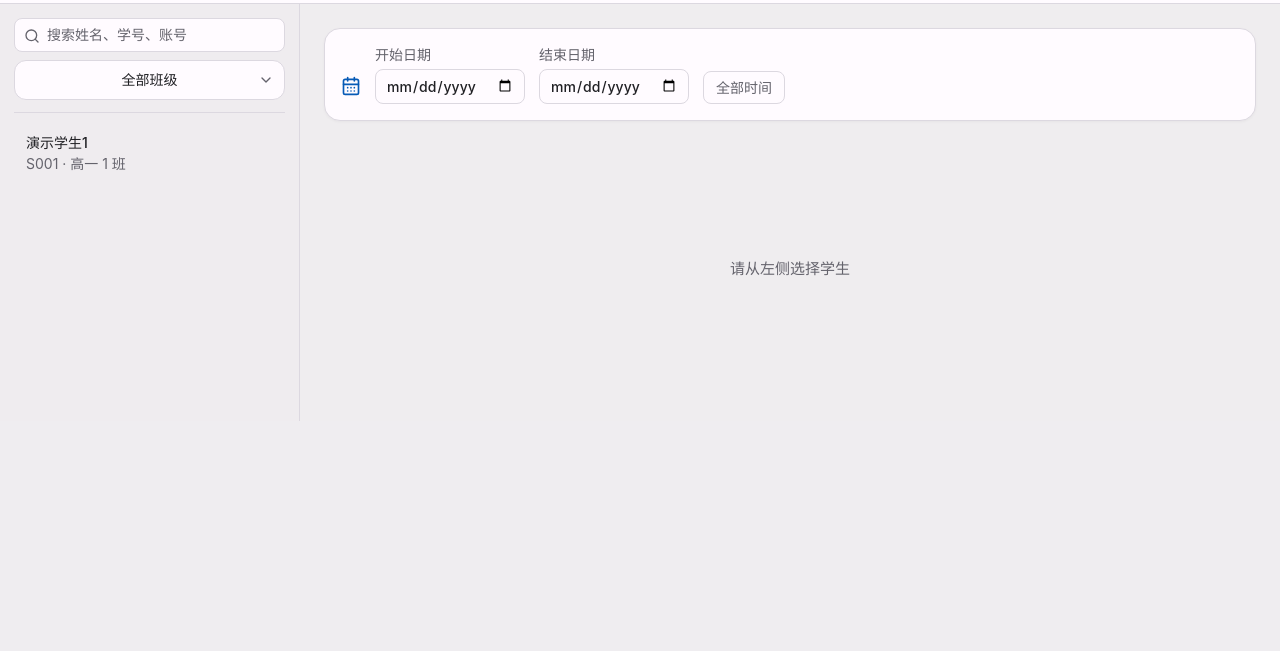
it: TeacherStudentInsightsWorkspace › confirms the exact student and source before assigning a personal practice
This screenshot has width=1280, height=651.
Click the text "演示学生1". click: (57, 142)
box: [26, 134, 88, 151]
(page scrolled)
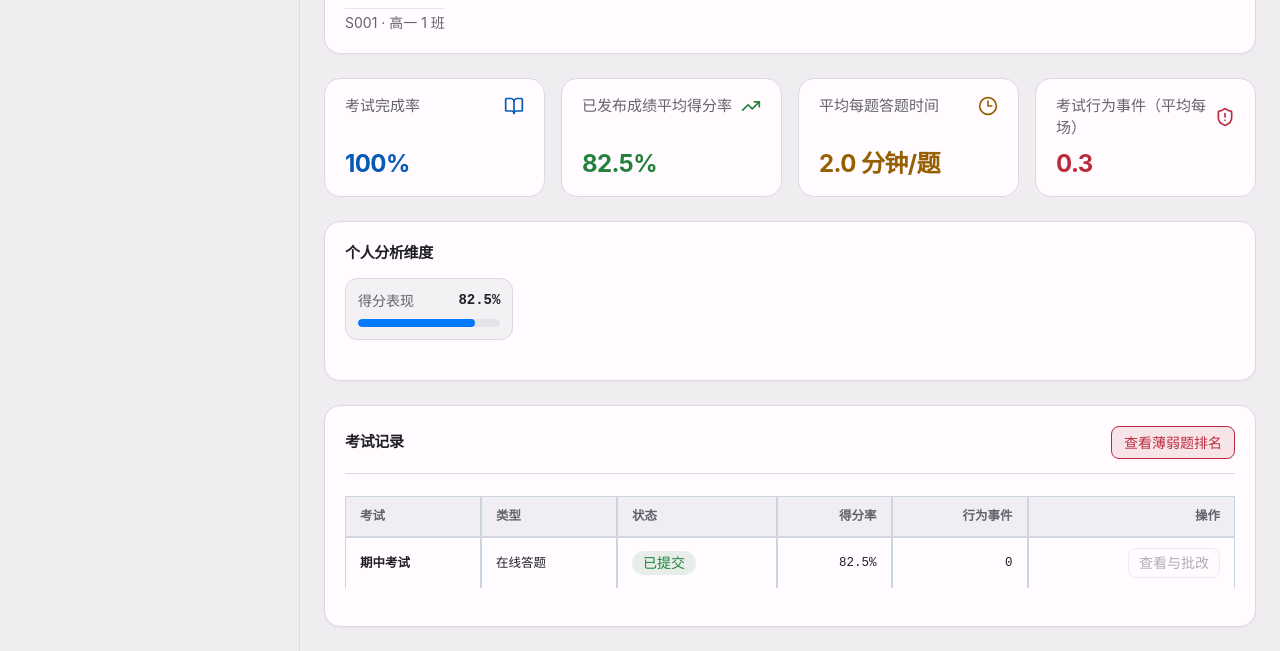
Click the button "查看薄弱题排名". click: (1173, 443)
box: [1111, 426, 1235, 460]
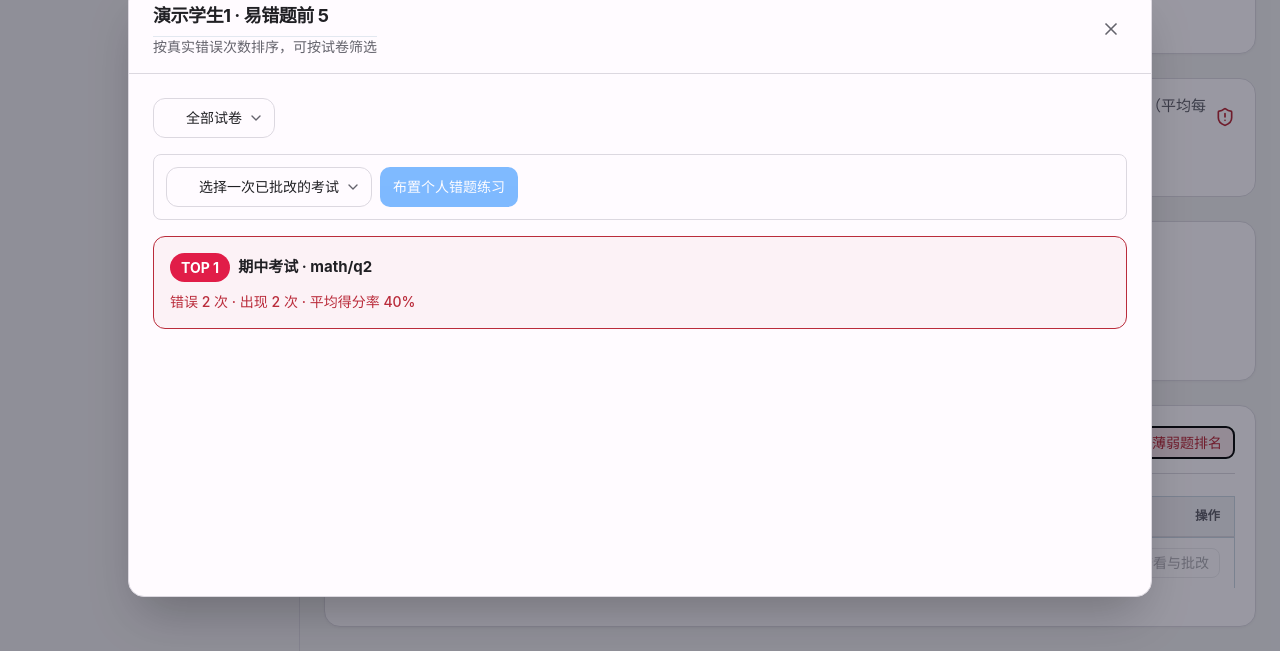
Check: the button "布置个人错题练习" is disabled, box [380, 167, 518, 207]
Click the dropdown named "错题练习来源". click: (269, 187)
box: [166, 167, 372, 207]
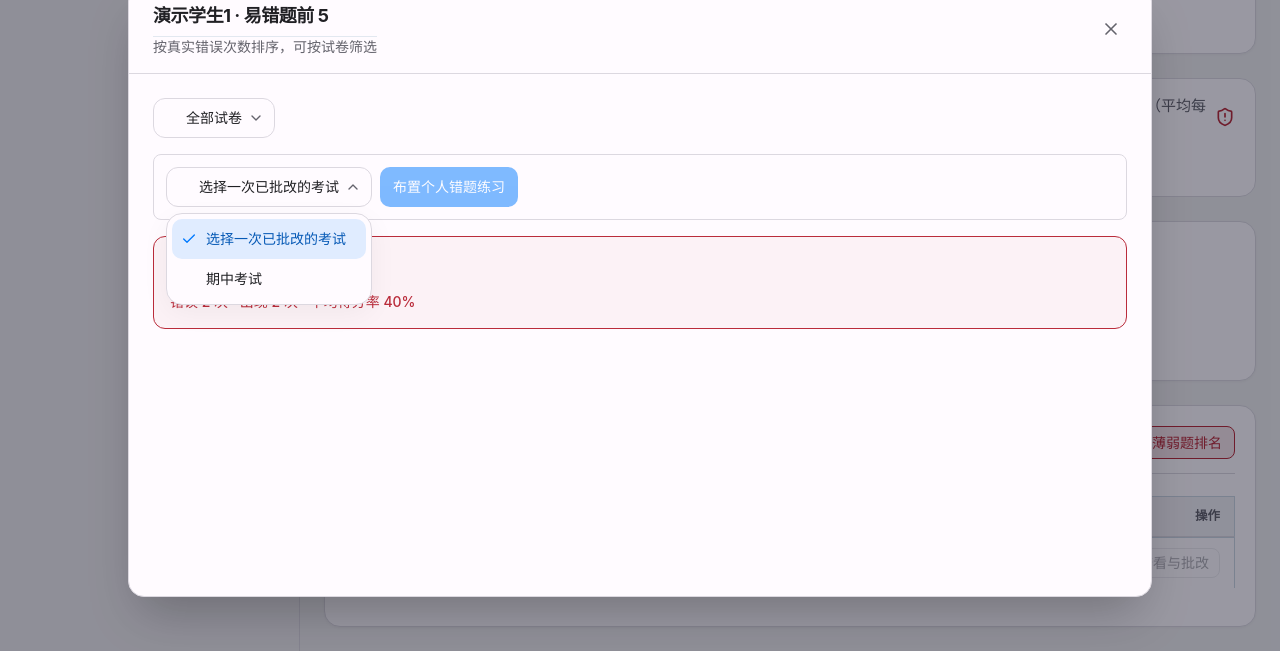
Click the option "期中考试". click: (234, 279)
box: [206, 270, 262, 287]
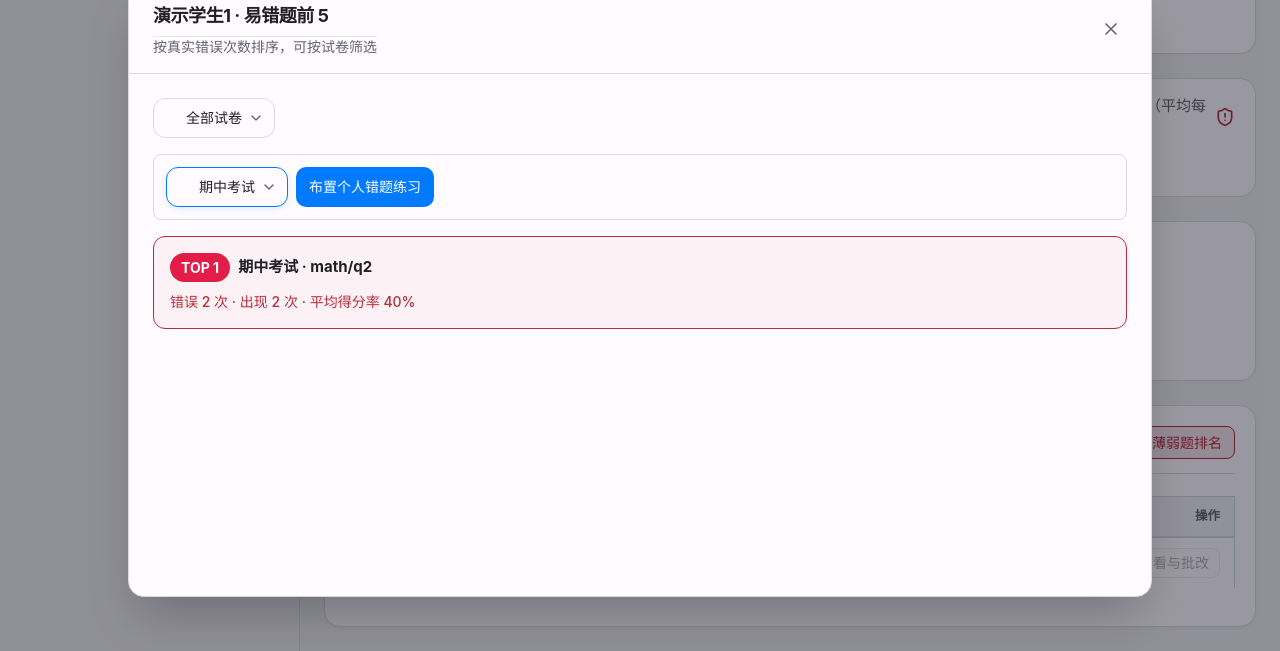
Click the button "布置个人错题练习". click: (365, 187)
box: [296, 167, 434, 207]
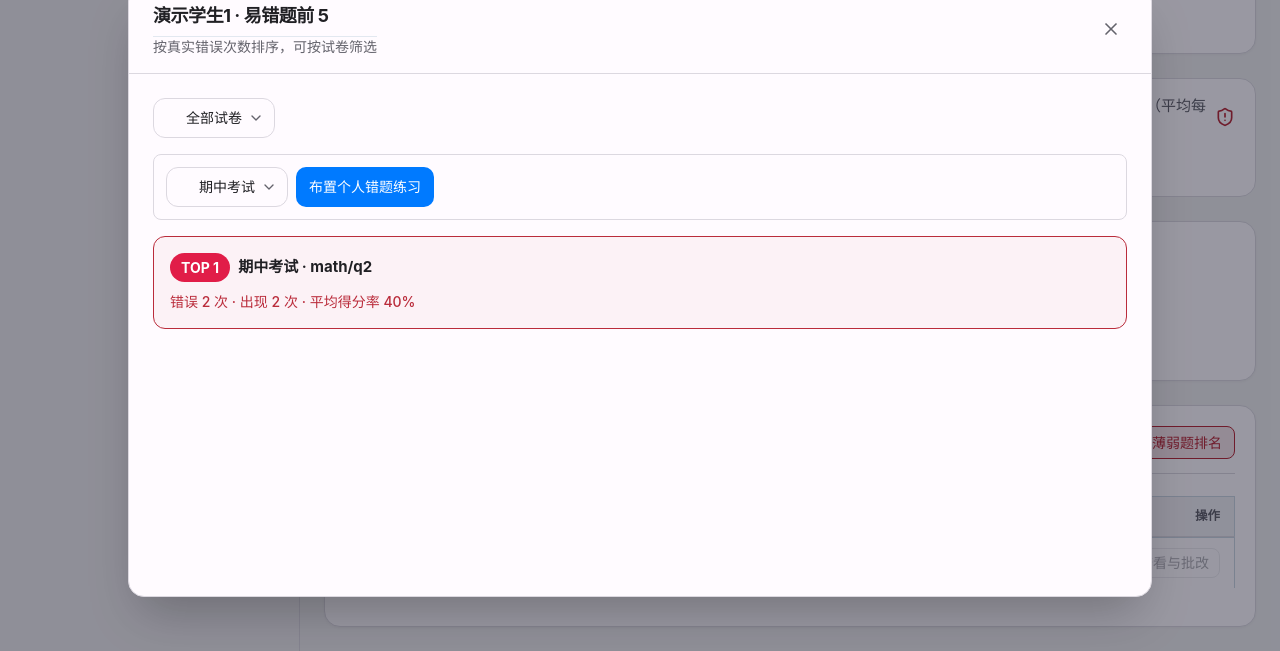
Click the button "布置个人错题练习". click: (365, 187)
box: [296, 167, 434, 207]
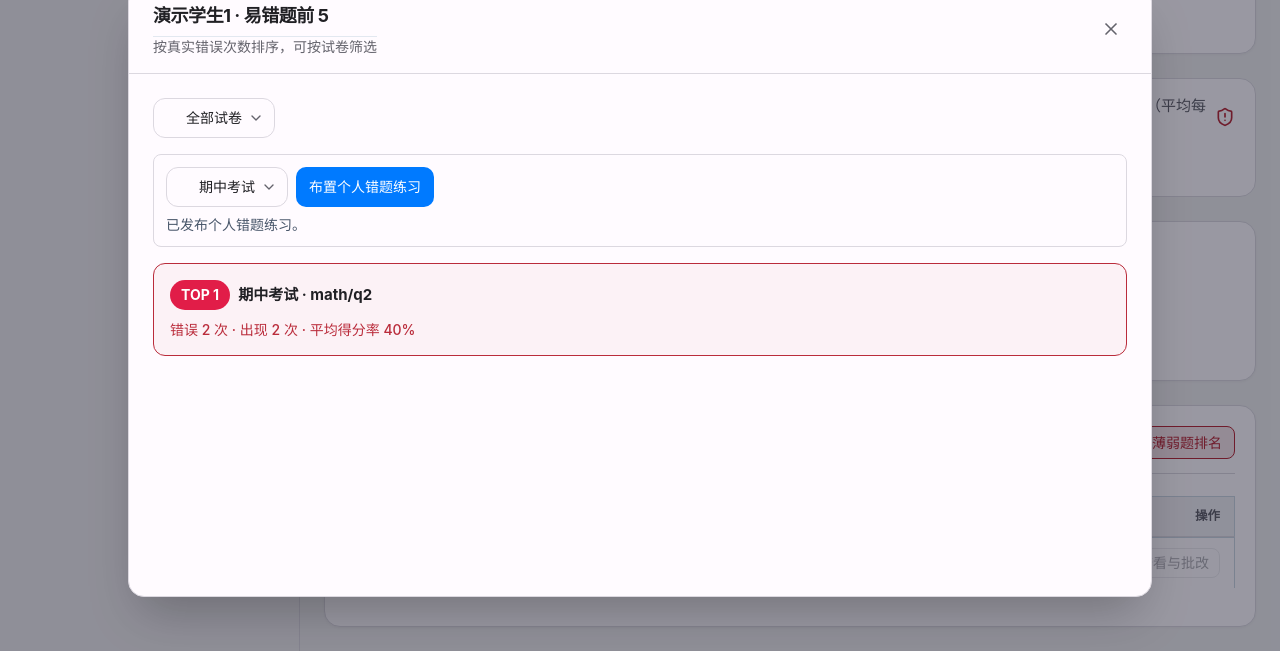
Check: the text "已发布个人错题练习。" is shown, box [166, 216, 306, 233]
